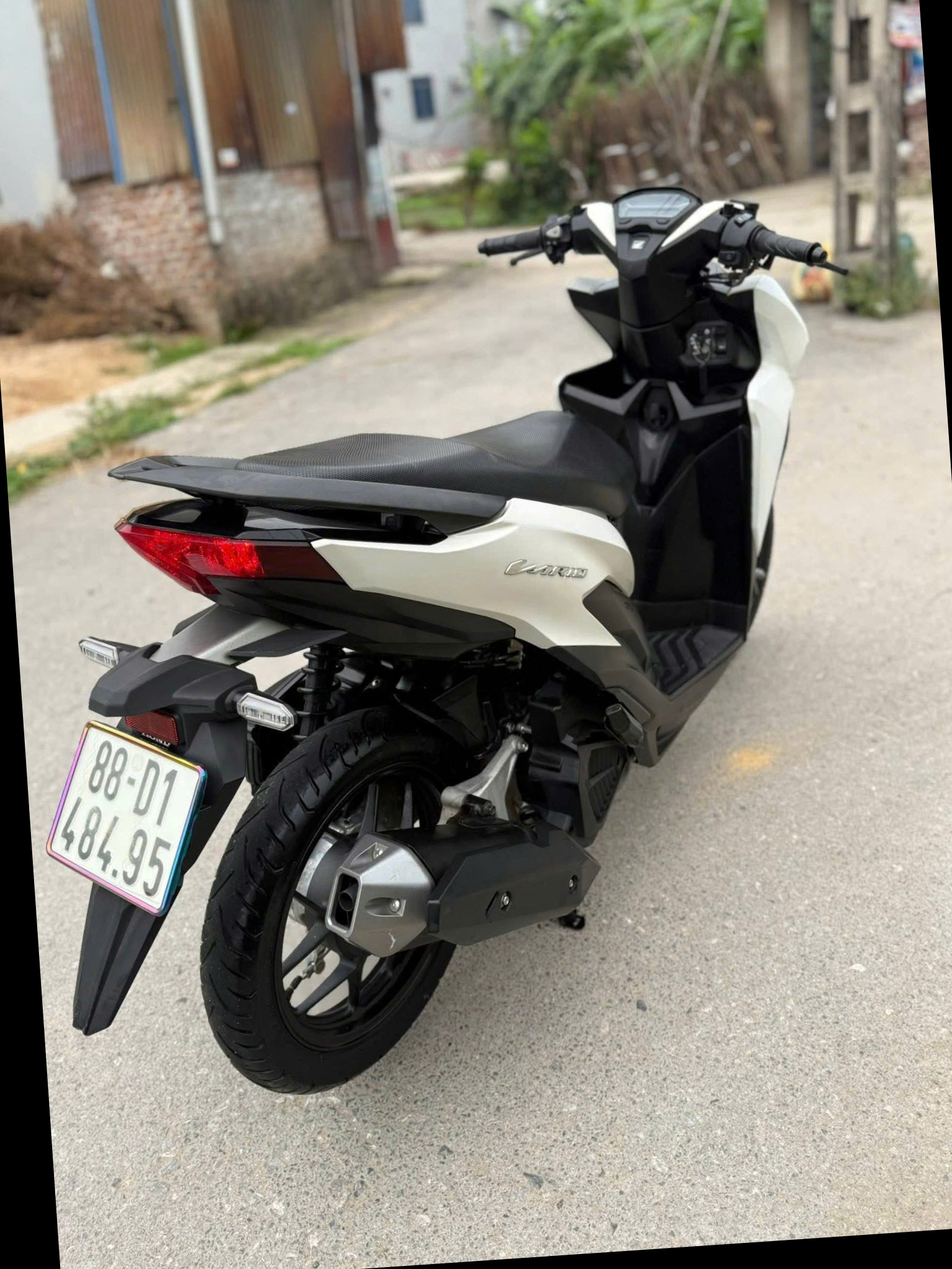Bien-so: (9, 752, 199, 984)
